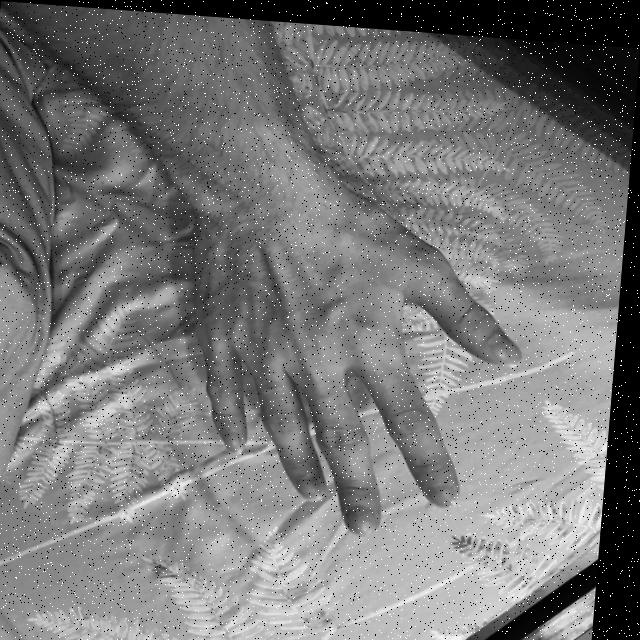hand: (176, 189, 540, 541)
